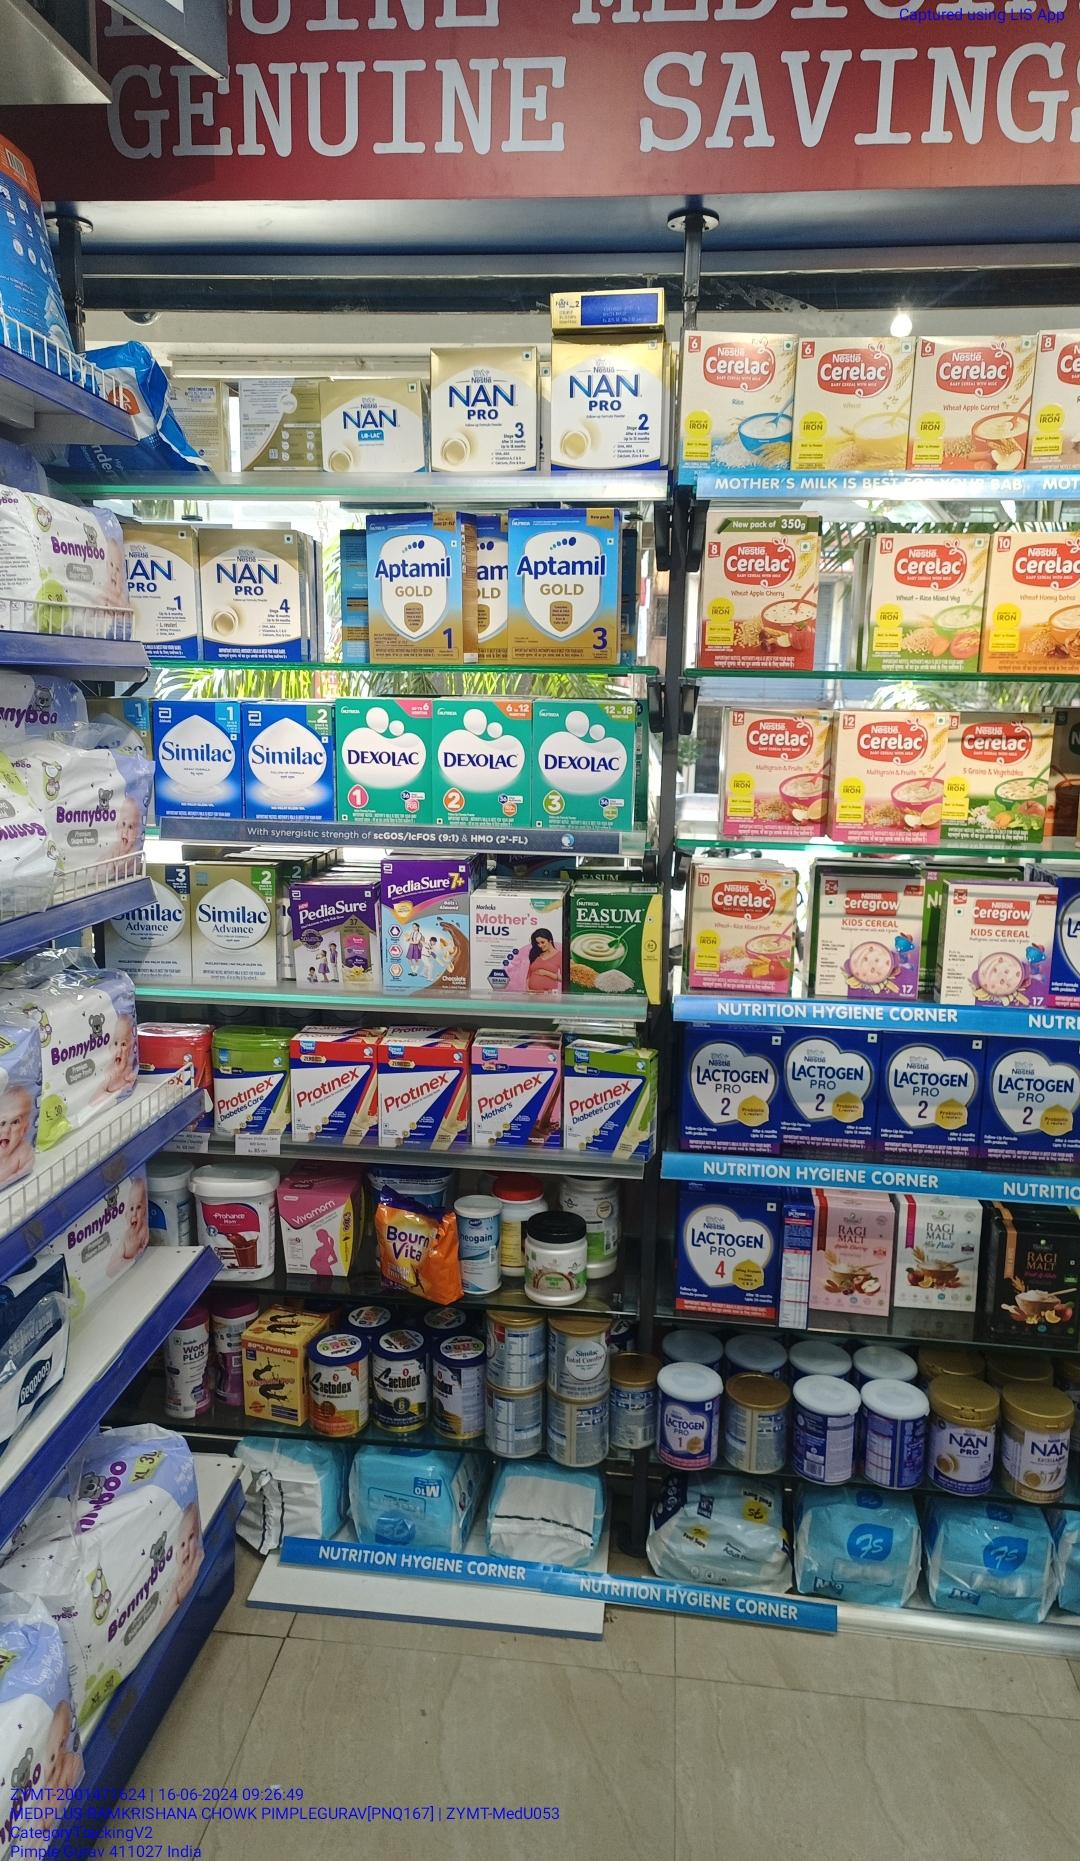BOURN_VITA_500_G_POUCH: (378, 1190, 453, 1304)
PEDIASURE_7_PLUS_CHOCOLATE_400_G_PACK: (382, 862, 469, 997)
PEDIASURE_VANILLA_500_G_PACK: (294, 883, 379, 993)
